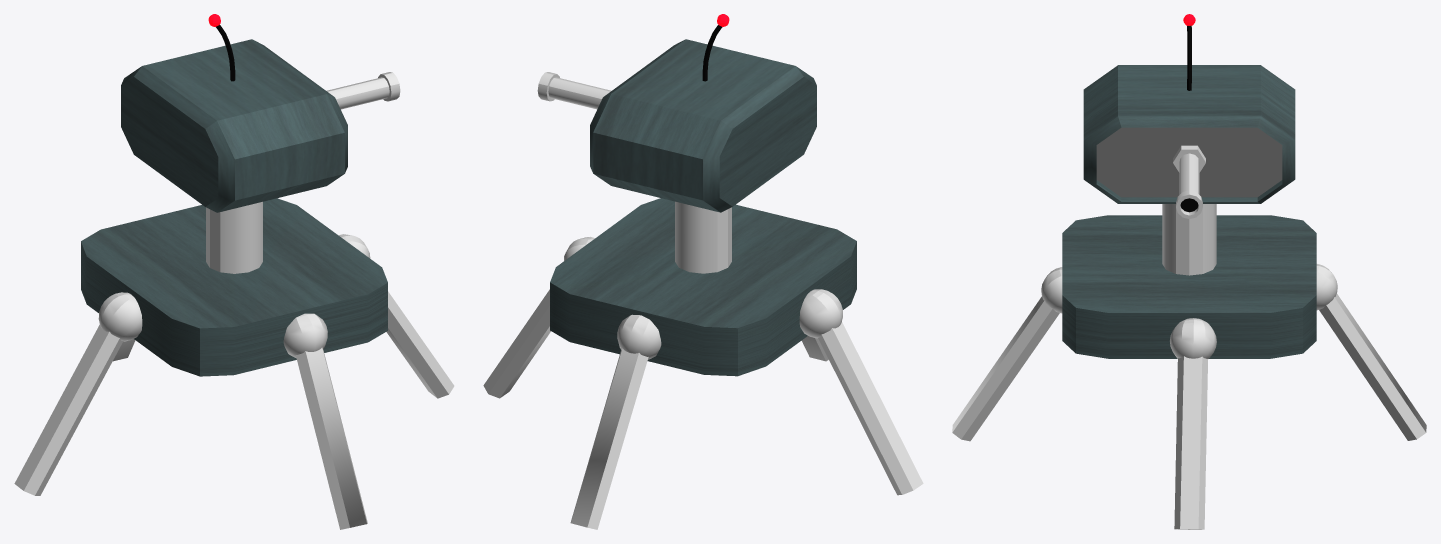
File: turret_base.glb
The picture shows the model from 3 angles, left to right: view 1: azimuth 30°, elevation 25°; view 2: azimuth 150°, elevation 25°; view 3: azimuth 270°, elevation 25°; orthographic projection. The views are drawn at different scales.
Parts seen in each view (by area): view 1: Base, Head, Cannon; view 2: Base, Head, Cannon; view 3: Base, Head, Cannon.
Part boxes in pixels (bbox=[...]): Base: bbox=[14, 198, 454, 529]; Head: bbox=[121, 39, 347, 212]; Cannon: bbox=[326, 72, 400, 109]; Base: bbox=[483, 198, 923, 529]; Head: bbox=[590, 39, 816, 212]; Cannon: bbox=[537, 72, 611, 109]; Base: bbox=[952, 204, 1426, 529]; Head: bbox=[1083, 65, 1295, 203]; Cannon: bbox=[1173, 145, 1205, 218].
Size of the model in its own units: 6.64 by 6.39 by 6.64.
5 materials, 1 textured.
